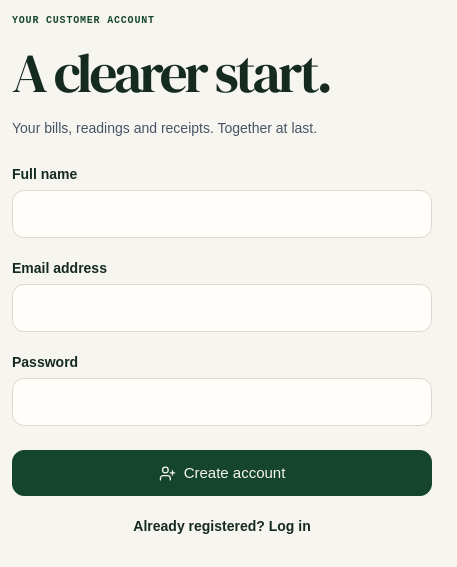
Test: RegisterForm › shows password feedback after leaving the input and clears it when corrected
Step 1. Type "Short1" into the password field labelled "Password" → point(222, 402), box [12, 378, 432, 426]
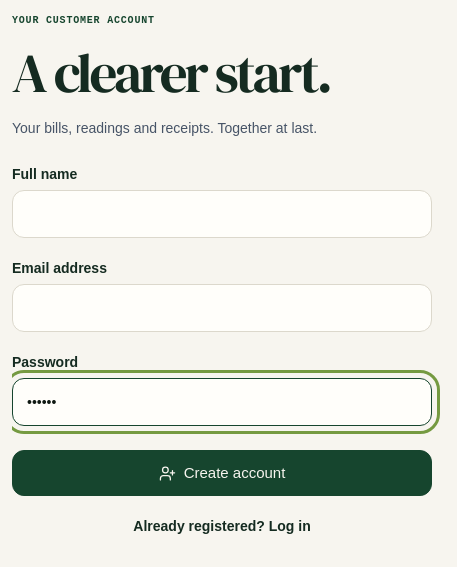
Step 2. Press Tab
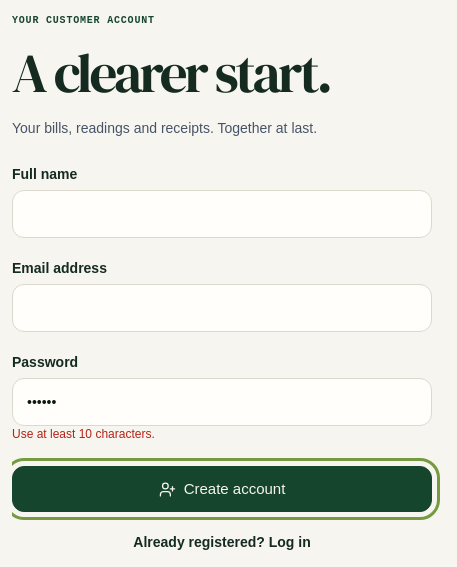
Check: the text "Use at least 10 characters." is shown, box [12, 427, 155, 441]
Step 3. Type "LongEnough" into the password field labelled "Password" → point(222, 402), box [12, 378, 432, 426]
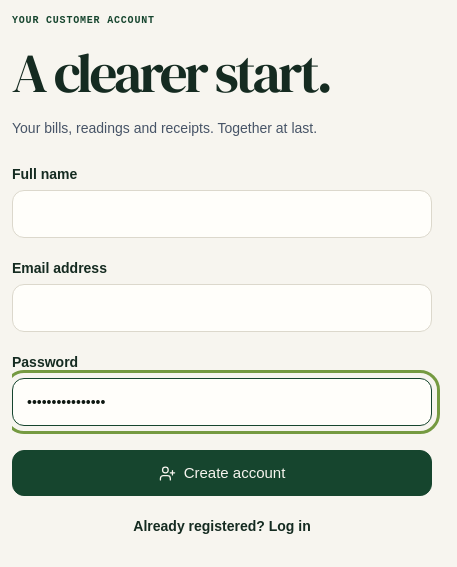
Check: the message "Use at least 10 characters." is gone
